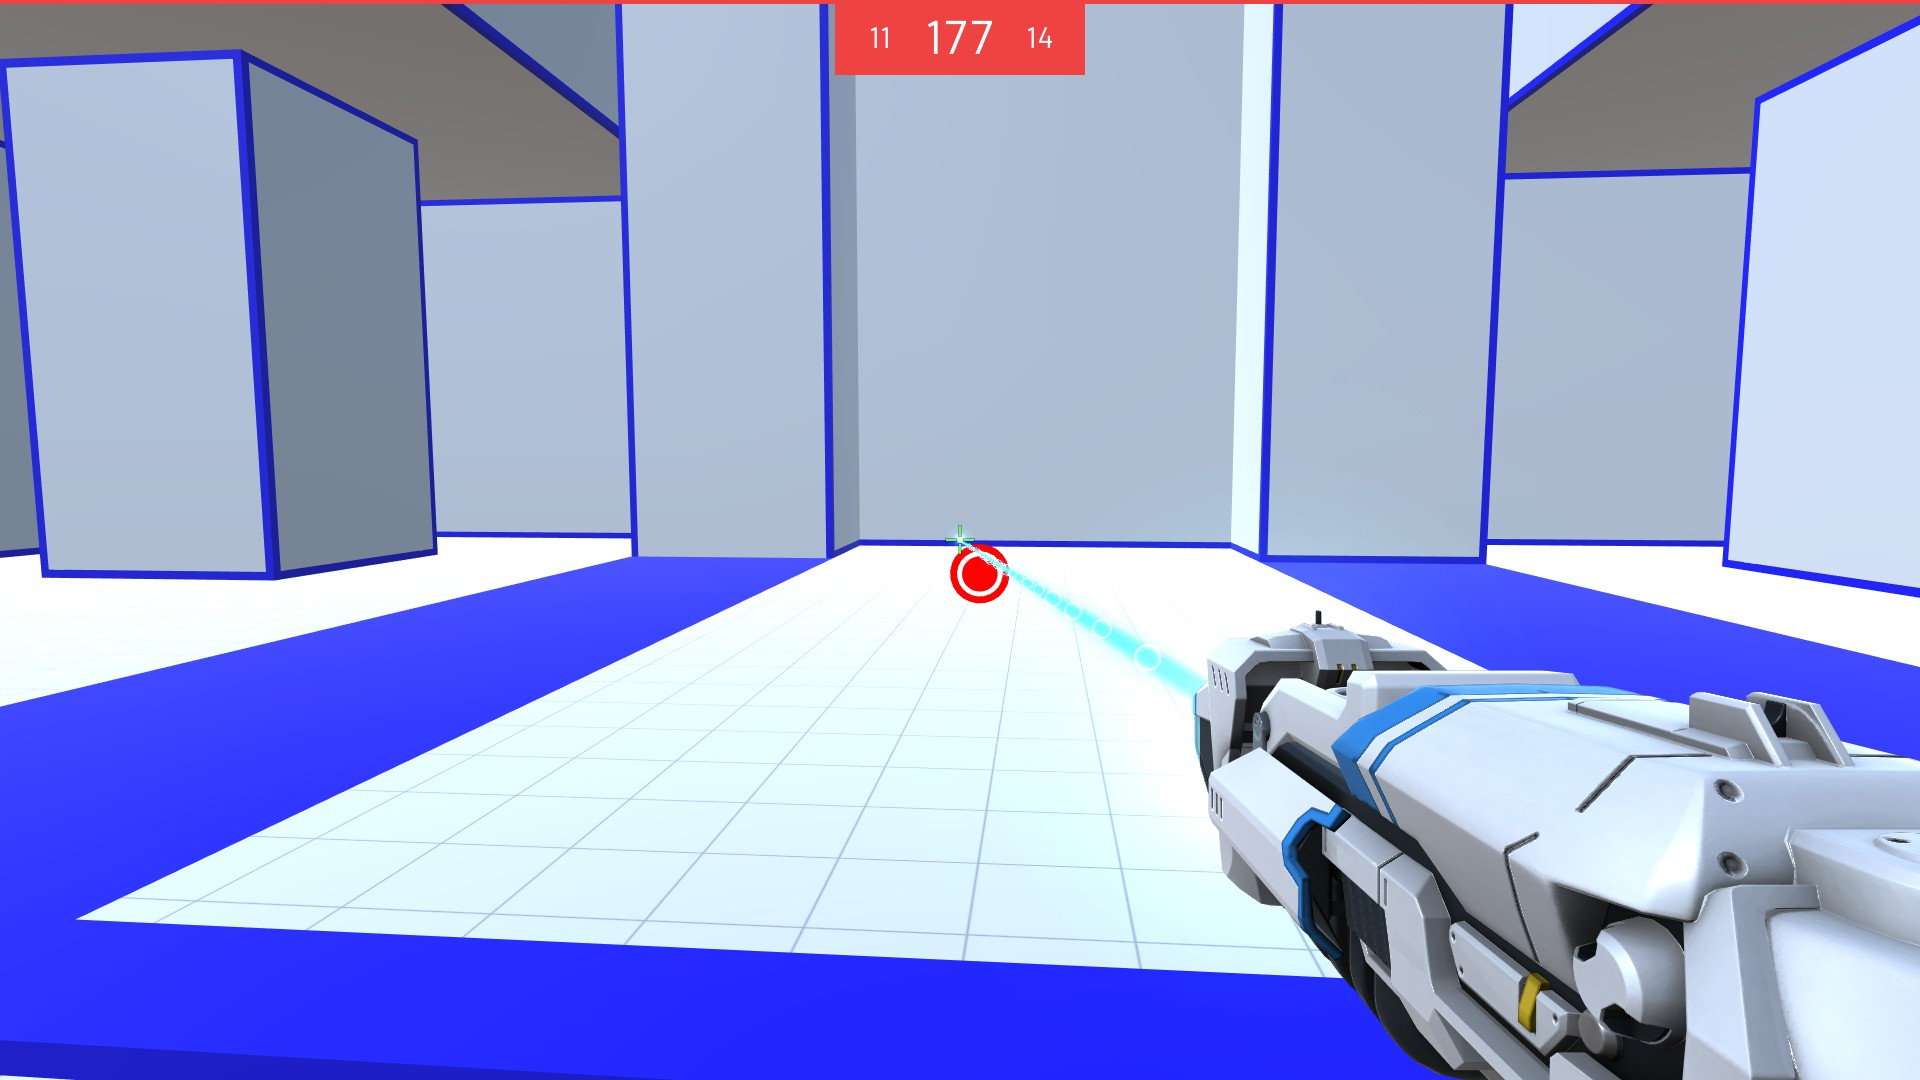target: (948, 542, 1010, 607)
